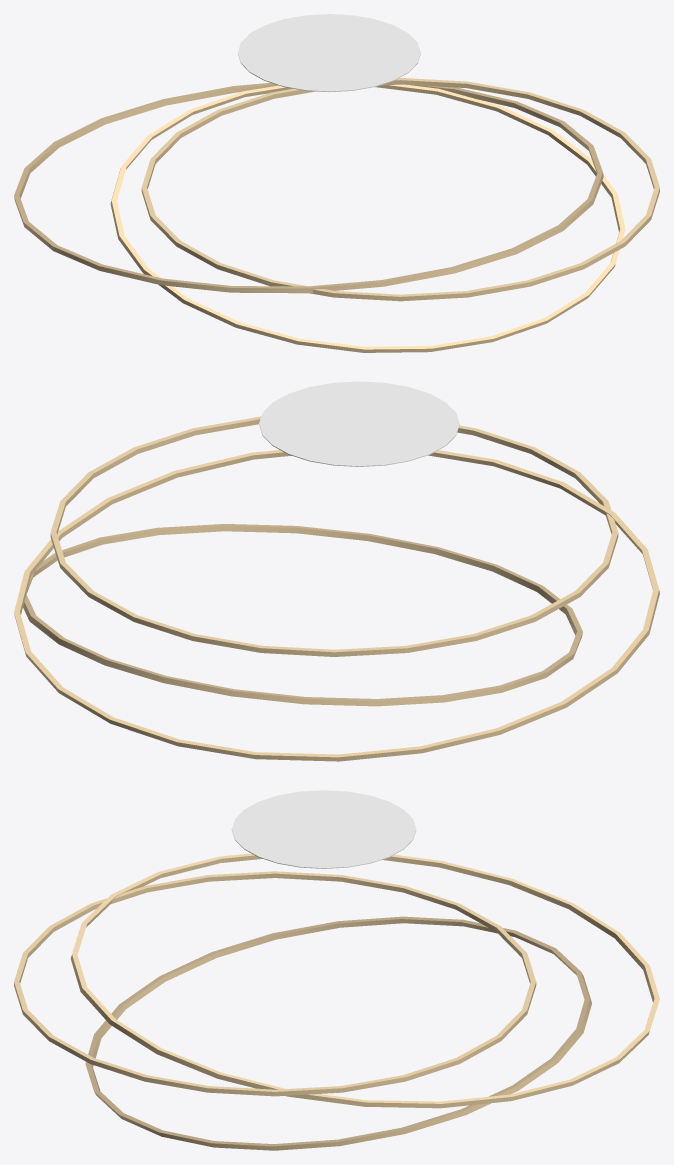
3 renders of one model, top to bottom at view 1: azimuth 30°, elevation 25°; view 2: azimuth 150°, elevation 25°; view 3: azimuth 270°, elevation 25°, orthographic. The views are drawn at different scales.
Parts seen in each view (by area): view 1: Group5, Group3, Group1, Group4; view 2: Group5, Group3, Group4, Group1; view 3: Group5, Group3, Group1, Group4.
Boxes of the visible parts, x1,y1,x2,y2 form: Group5: (237, 14, 420, 92); Group3: (14, 83, 603, 293); Group1: (141, 78, 659, 301); Group4: (110, 84, 625, 352); Group5: (259, 381, 459, 466); Group3: (14, 450, 659, 761); Group4: (23, 524, 582, 706); Group1: (50, 416, 618, 656); Group5: (231, 790, 416, 868); Group3: (70, 853, 659, 1108); Group1: (14, 871, 536, 1096); Group4: (85, 916, 591, 1150).
Size of the model in its own units: 1994 by 776 by 2100.
